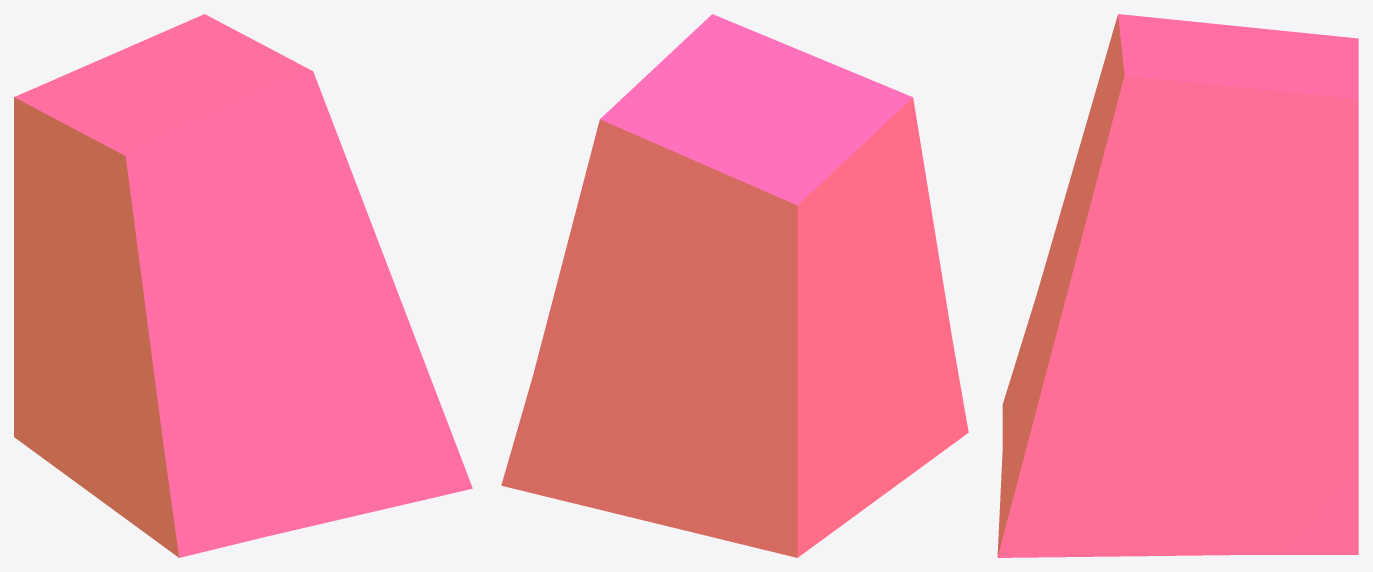
The picture shows the model from 3 angles, left to right: view 1: azimuth 30°, elevation 25°; view 2: azimuth 150°, elevation 25°; view 3: azimuth 270°, elevation 25°; orthographic projection. The views are drawn at different scales.
Visible parts, largest first — view 1: pCube7; view 2: pCube7; view 3: pCube7.
Boxes of the visible parts, box(x1,y1,x2,y2) form: pCube7: box(14, 14, 472, 557); pCube7: box(501, 14, 968, 557); pCube7: box(997, 14, 1358, 557).
Size of the model in its own units: 3.86 by 5.05 by 3.85.
